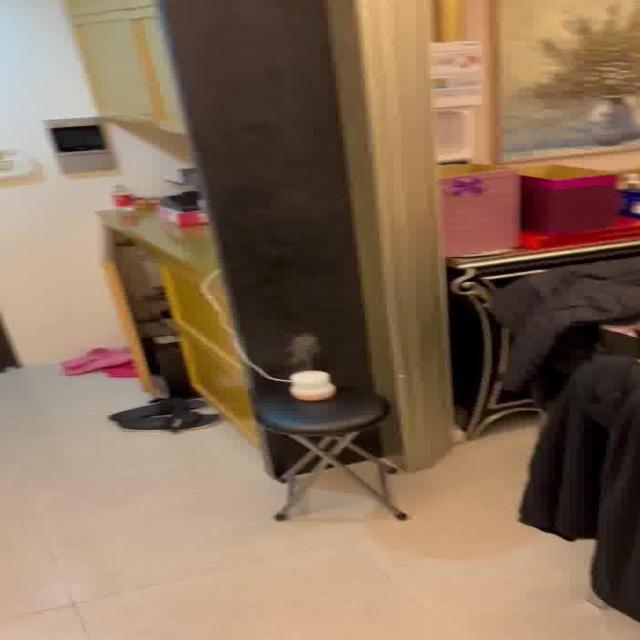fire: (280, 331, 330, 370)
